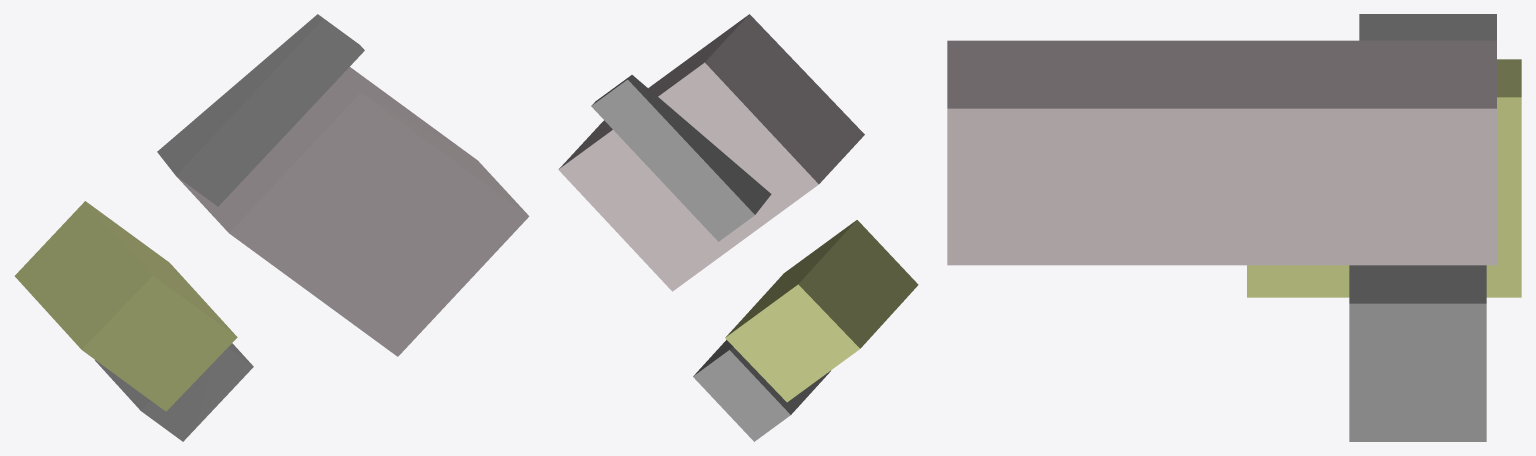
3 renders of one model, left to right at view 1: azimuth 30°, elevation 25°; view 2: azimuth 150°, elevation 25°; view 3: azimuth 270°, elevation 25°, orthographic. The views are drawn at different scales.
Visible parts, largest first — view 1: 0_1_1_3_2_2_3_3_3_0_0; view 2: 0_1_1_3_2_2_3_3_3_0_0; view 3: 0_1_1_3_2_2_3_3_3_0_0.
Boxes of the visible parts, x1,y1,x2,y2 form: 0_1_1_3_2_2_3_3_3_0_0: (15, 14, 529, 441); 0_1_1_3_2_2_3_3_3_0_0: (558, 14, 918, 441); 0_1_1_3_2_2_3_3_3_0_0: (947, 14, 1521, 441).
Size of the model in its own units: 13.89 by 13.76 by 12.54.
